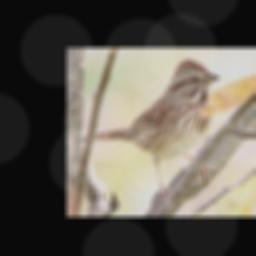Sparrow: (79, 56, 223, 204)
